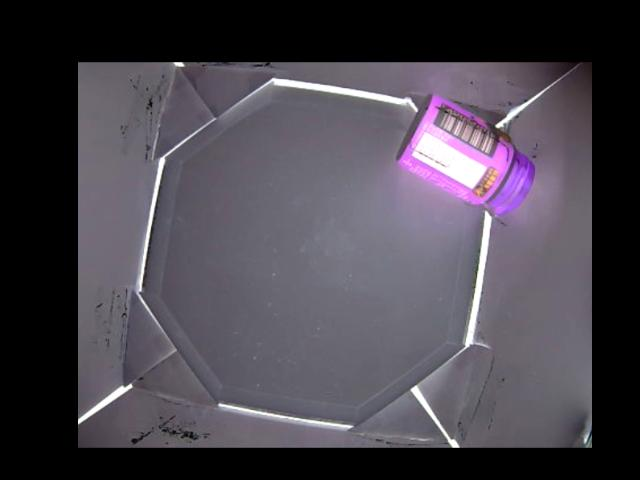Bottle: (392, 91, 536, 217)
